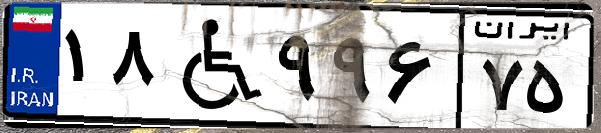1: (57, 26, 110, 100)
5: (525, 38, 570, 115)
6: (385, 28, 445, 110)
7: (475, 38, 525, 113)
8: (110, 28, 158, 98)
9: (270, 28, 330, 110), (330, 28, 385, 110)
ژ (معلولین و جانبازان): (158, 12, 270, 120)
